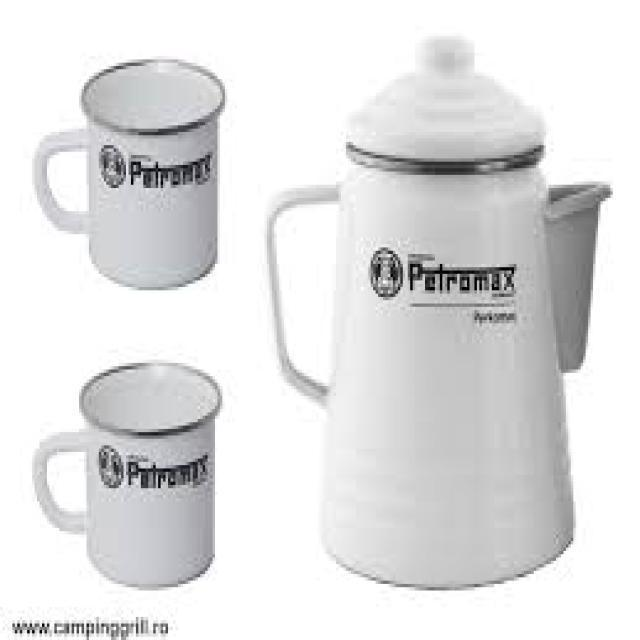taza: (24, 348, 238, 602), (34, 48, 229, 296)
